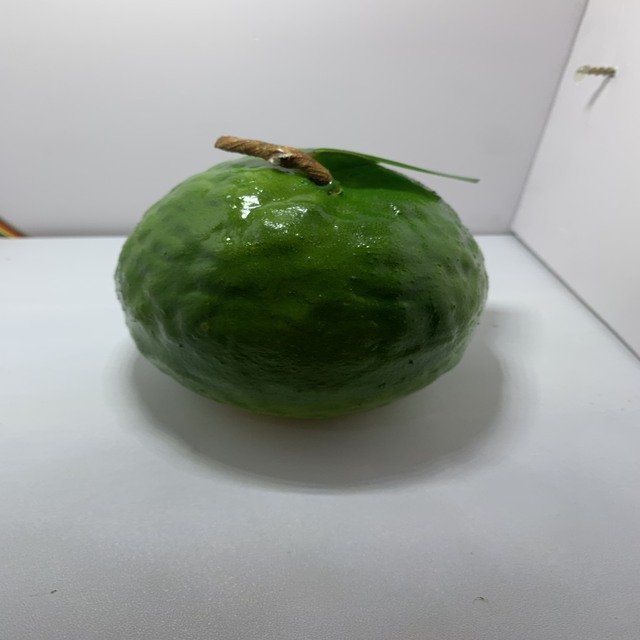Cam xanh: (106, 143, 502, 422)
